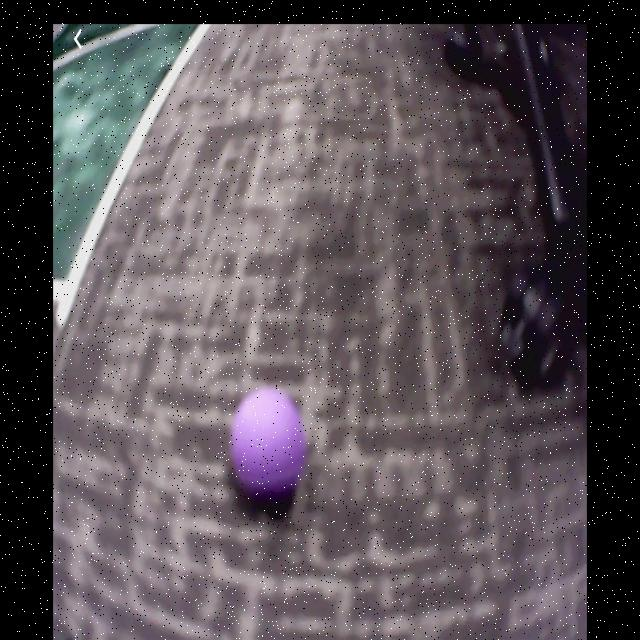ball: (231, 389, 305, 495)
